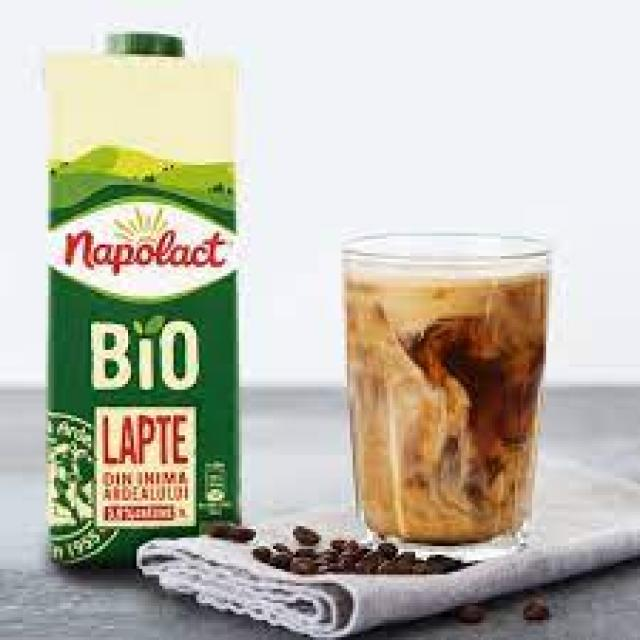milk: (44, 34, 240, 560)
